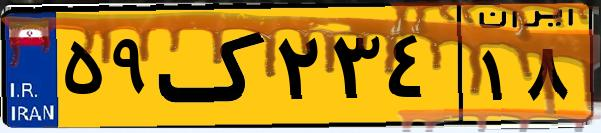1: (475, 38, 525, 113)
2: (270, 28, 330, 110)
3: (330, 28, 385, 110)
4: (385, 28, 445, 110)
5: (57, 26, 110, 100)
8: (525, 38, 570, 115)
9: (110, 28, 158, 98)
ک: (158, 12, 270, 120)
